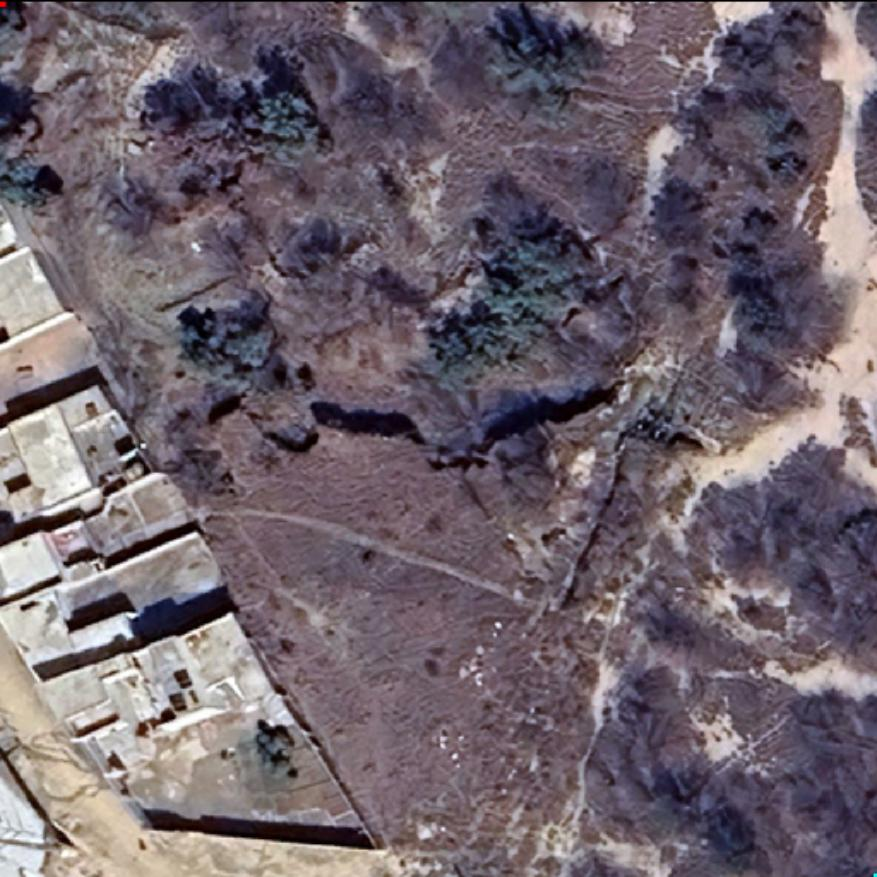Solarpanel: (160, 664, 200, 716)
